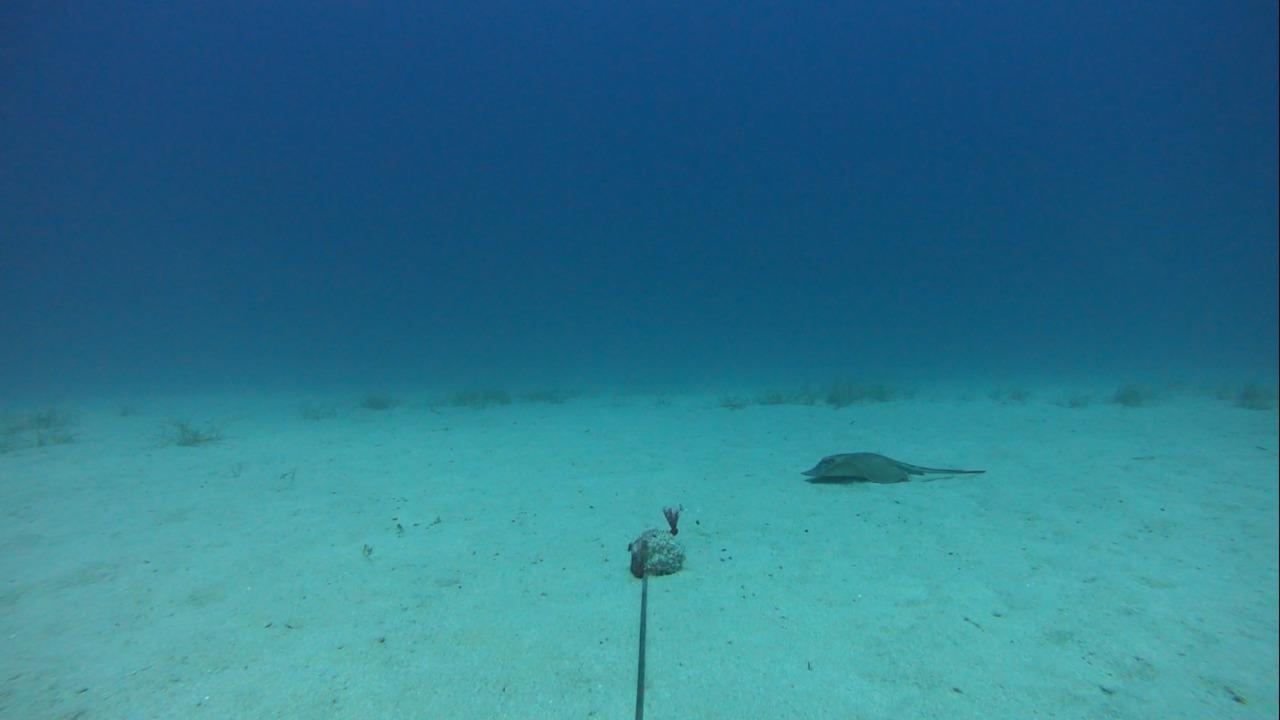myliobatis: (797, 446, 994, 487)
